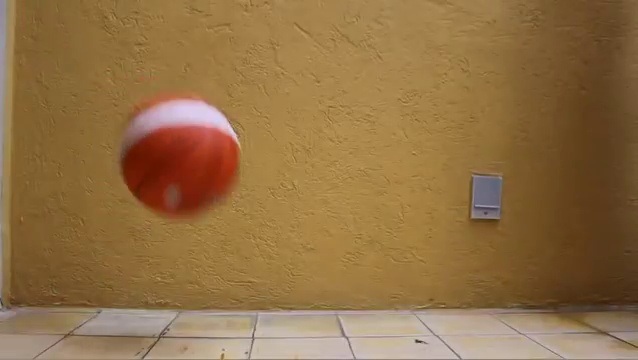ball: (118, 92, 244, 221)
